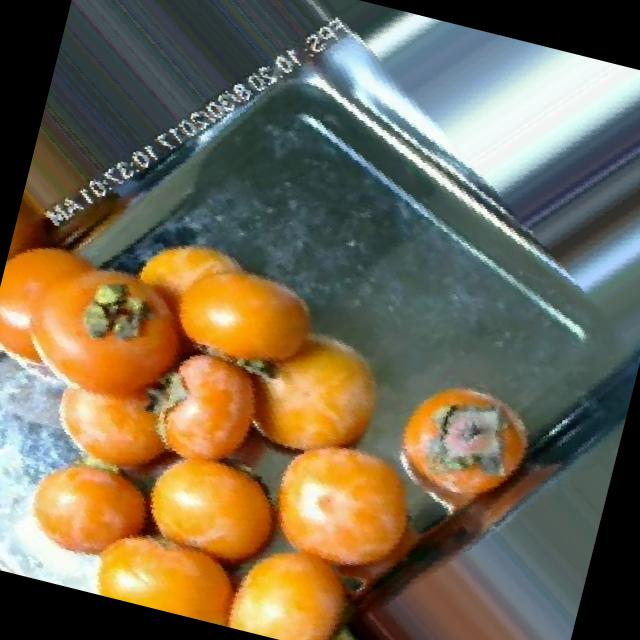Fruit: (0, 293, 23, 424)
